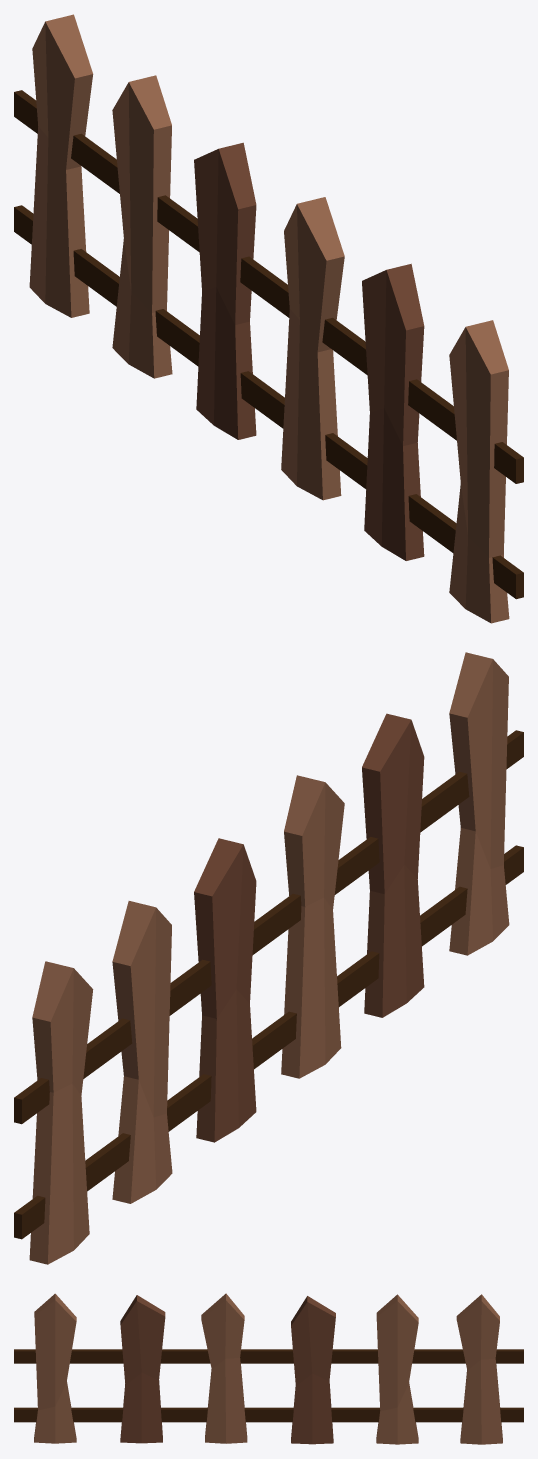
The model's file is valla.fbx.
The picture shows the model from 3 angles, top to bottom: view 1: azimuth 30°, elevation 25°; view 2: azimuth 150°, elevation 25°; view 3: azimuth 270°, elevation 25°; orthographic projection. The views are drawn at different scales.
Parts seen in each view (by area): view 1: Cube.8638, Cube.8641, Cube.8643, Cube.8640, Cube.8639, Cube.8642, Cube.8645, Cube.8644; view 2: Cube.8641, Cube.8638, Cube.8640, Cube.8643, Cube.8639, Cube.8642, Cube.8645, Cube.8644; view 3: Cube.8641, Cube.8638, Cube.8643, Cube.8640, Cube.8642, Cube.8639, Cube.8644, Cube.8645.
Boxes of the visible parts, box(x1,y1,x2,y2) form: Cube.8638: box(194, 142, 256, 439); Cube.8641: box(362, 263, 424, 560); Cube.8643: box(281, 197, 344, 500); Cube.8640: box(29, 14, 93, 317); Cube.8639: box(112, 75, 172, 378); Cube.8642: box(449, 320, 509, 623); Cube.8645: box(14, 90, 523, 483); Cube.8644: box(14, 205, 523, 599); Cube.8641: box(362, 713, 424, 1017); Cube.8638: box(194, 838, 256, 1142); Cube.8640: box(29, 961, 93, 1264); Cube.8643: box(281, 775, 344, 1078); Cube.8639: box(112, 901, 172, 1203); Cube.8642: box(449, 652, 509, 955); Cube.8645: box(14, 730, 523, 1124); Cube.8644: box(14, 845, 523, 1239); Cube.8641: box(120, 1295, 165, 1443); Cube.8638: box(291, 1296, 335, 1444); Cube.8643: box(201, 1293, 247, 1443); Cube.8640: box(456, 1294, 502, 1444); Cube.8642: box(34, 1293, 76, 1443); Cube.8639: box(376, 1294, 418, 1444); Cube.8644: box(14, 1407, 523, 1422); Cube.8645: box(14, 1349, 523, 1363).
Size of the model in its own units: 78.86 by 749 by 2399.
